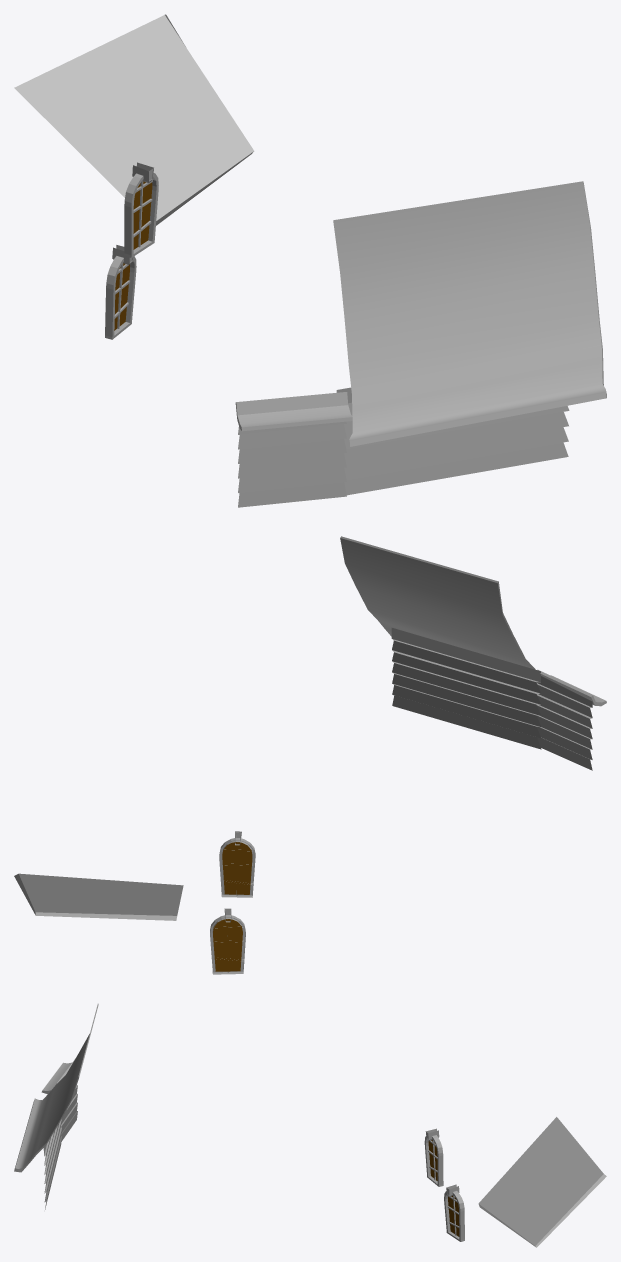
Rendered from fffffgfdgd.fbx.
3 renders of one model, top to bottom at view 1: azimuth 30°, elevation 25°; view 2: azimuth 150°, elevation 25°; view 3: azimuth 270°, elevation 25°, orthographic. The views are drawn at different scales.
Parts seen in each view (by area): view 1: polySurface193, polySurface81, pCube172, window2, window; view 2: polySurface193, polySurface81, pCube172, window2, window; view 3: polySurface81, polySurface193, window, window2, pCube172.
Boxes of the visible parts, box(x1,y1,x2,y2) form: polySurface193: box(333, 181, 606, 495); polySurface81: box(14, 14, 253, 225); pCube172: box(235, 392, 352, 507); window2: box(124, 162, 158, 257); window: box(105, 245, 136, 339); polySurface193: box(340, 536, 541, 749); polySurface81: box(14, 873, 183, 920); pCube172: box(536, 669, 606, 770); window2: box(219, 831, 255, 897); window: box(210, 908, 245, 974); polySurface81: box(478, 1117, 606, 1247); polySurface193: box(14, 1003, 98, 1209); window: box(444, 1184, 464, 1241); window2: box(424, 1128, 443, 1186); pCube172: box(41, 1059, 77, 1141).
Bounding box in the file's own units: 0.1529 × 0.1259 × 0.3218.
